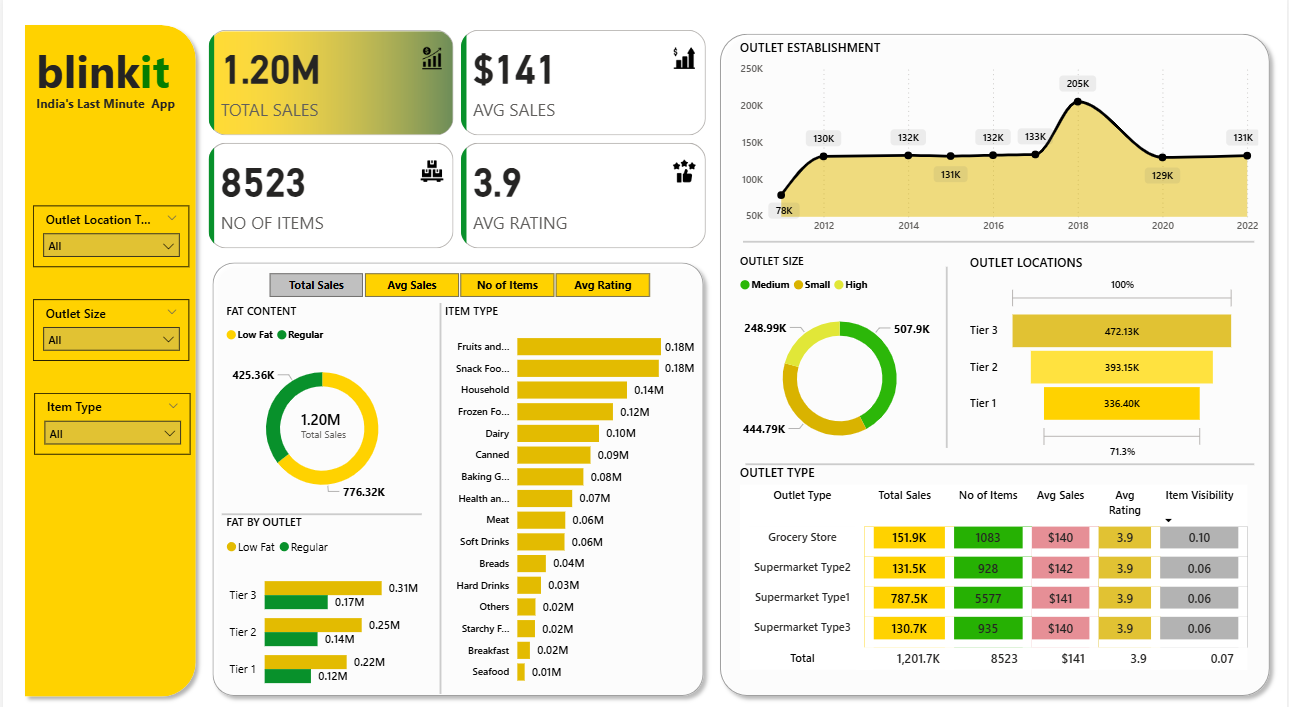

The dashboard page shown, as its layout file describes it:
{"tool":"powerbi","page":{"name":"Page 1","canvas":[1400,800],"ordinal":0},"visuals":[{"type":"shape","box":[15,25.5,204.1,750.4],"z":0},{"type":"textbox","box":[31.5,46.5,171.1,78],"z":1000},{"type":"textbox","box":[31.5,106.6,171.1,36],"z":2000},{"type":"cardVisual","fields":{"Data":["BlinkIT Grocery Data.Total Sales","BlinkIT Grocery Data.Avg Sales","BlinkIT Grocery Data.No of Items","BlinkIT Grocery Data.Avg Rating"]},"box":[219.5,35.4,553.5,249.5],"z":3000},{"type":"shape","box":[219.5,284.9,553.5,490.8],"z":4000},{"type":"donutChart","title":"FAT CONTENT","fields":{"Y":["BlinkIT Grocery Data.Total Sales"],"Category":["BlinkIT Grocery Data.Item Fat Content"]},"box":[238.6,338.1,219.5,230.4],"z":5000},{"type":"slicer","fields":{"Values":["Metrics.Metrics"]},"box":[264.5,298.6,464.9,39.5],"z":6000},{"type":"cardVisual","fields":{"Data":["BlinkIT Grocery Data.Total Sales"]},"box":[308.1,436.3,94.1,60],"z":7000},{"type":"clusteredBarChart","title":"FAT BY OUTLET","fields":{"Y":["BlinkIT Grocery Data.Total Sales"],"Category":["BlinkIT Grocery Data.Outlet Location Type"],"Series":["BlinkIT Grocery Data.Item Fat Content"]},"box":[238.6,568.5,219.5,207.2],"z":8000},{"type":"shape","box":[238.6,548.1,218.1,40.9],"z":9000},{"type":"shape","box":[456.7,338.1,40.9,426.7],"z":10000},{"type":"barChart","title":"ITEM TYPE ","fields":{"Y":["BlinkIT Grocery Data.Total Sales"],"Category":["BlinkIT Grocery Data.Item Type"]},"box":[477.2,338.1,282.2,426.7],"z":11000},{"type":"shape","box":[773,35.4,617.6,740.3],"z":12000},{"type":"lineChart","title":" OUTLET ESTABLISHMENT","fields":{"Category":["BlinkIT Grocery Data.Outlet Establishment Year"],"Y":["BlinkIT Grocery Data.Total Sales"]},"box":[798.9,50.4,575.3,220.9],"z":13000},{"type":"shape","box":[807.1,250.9,557.6,40.9],"z":14000},{"type":"donutChart","title":"OUTLET SIZE","fields":{"Y":["BlinkIT Grocery Data.Total Sales"],"Category":["BlinkIT Grocery Data.Outlet Size"]},"box":[798.9,283.6,227.7,230.4],"z":15000},{"type":"shape","box":[1008.9,298.6,40.9,197.7],"z":16000},{"type":"shape","box":[809.8,485.3,554.9,57.3],"z":17000},{"type":"funnel","title":"OUTLET LOCATIONS","fields":{"Y":["Sum(BlinkIT Grocery Data.Sales)"],"Category":["BlinkIT Grocery Data.Outlet Location Type"]},"box":[1049.8,284.9,299.9,229],"z":18000},{"type":"pivotTable","title":"OUTLET TYPE","fields":{"Rows":["BlinkIT Grocery Data.Outlet Type"],"Values":["BlinkIT Grocery Data.Total Sales","BlinkIT Grocery Data.No of Items","BlinkIT Grocery Data.Avg Sales","BlinkIT Grocery Data.Avg Rating","Avg(BlinkIT Grocery Data.Item Visibility)"]},"box":[798.9,514,565.8,235.9],"z":19000},{"type":"slicer","fields":{"Values":["BlinkIT Grocery Data.Outlet Location Type"]},"box":[32.7,231.8,170.4,66.8],"z":20000},{"type":"slicer","fields":{"Values":["BlinkIT Grocery Data.Outlet Size"]},"box":[32.7,334,170.4,66.8],"z":21000},{"type":"slicer","fields":{"Values":["BlinkIT Grocery Data.Item Type"]},"box":[34.1,436.3,170.4,66.8],"z":22000}]}

Visuals, with their boxes on the page's 1400x800 design canvas (x1, y1, x2, y2). These are canvas units, not pixel positions in the 1289x707 screenshot, which may show the page scaled, cropped or inside an application window:
shape: (15, 26, 219, 776)
textbox: (32, 46, 203, 124)
textbox: (32, 107, 203, 143)
cardVisual - BlinkIT Grocery Data.Total Sales x BlinkIT Grocery Data.Avg Sales: (220, 35, 773, 285)
shape: (220, 285, 773, 776)
"FAT CONTENT" donutChart: (239, 338, 458, 568)
slicer - Metrics.Metrics: (264, 299, 729, 338)
cardVisual - BlinkIT Grocery Data.Total Sales: (308, 436, 402, 496)
"FAT BY OUTLET" clusteredBarChart: (239, 568, 458, 776)
shape: (239, 548, 457, 589)
shape: (457, 338, 498, 765)
"ITEM TYPE " barChart: (477, 338, 759, 765)
shape: (773, 35, 1391, 776)
" OUTLET ESTABLISHMENT" lineChart: (799, 50, 1374, 271)
shape: (807, 251, 1365, 292)
"OUTLET SIZE" donutChart: (799, 284, 1027, 514)
shape: (1009, 299, 1050, 496)
shape: (810, 485, 1365, 543)
"OUTLET LOCATIONS" funnel: (1050, 285, 1350, 514)
"OUTLET TYPE" pivotTable: (799, 514, 1365, 750)
slicer - BlinkIT Grocery Data.Outlet Location Type: (33, 232, 203, 299)
slicer - BlinkIT Grocery Data.Outlet Size: (33, 334, 203, 401)
slicer - BlinkIT Grocery Data.Item Type: (34, 436, 204, 503)
